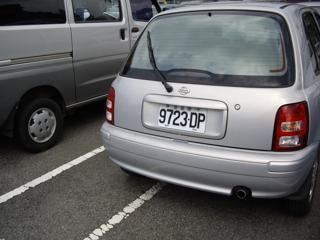plate: (156, 104, 209, 133)
